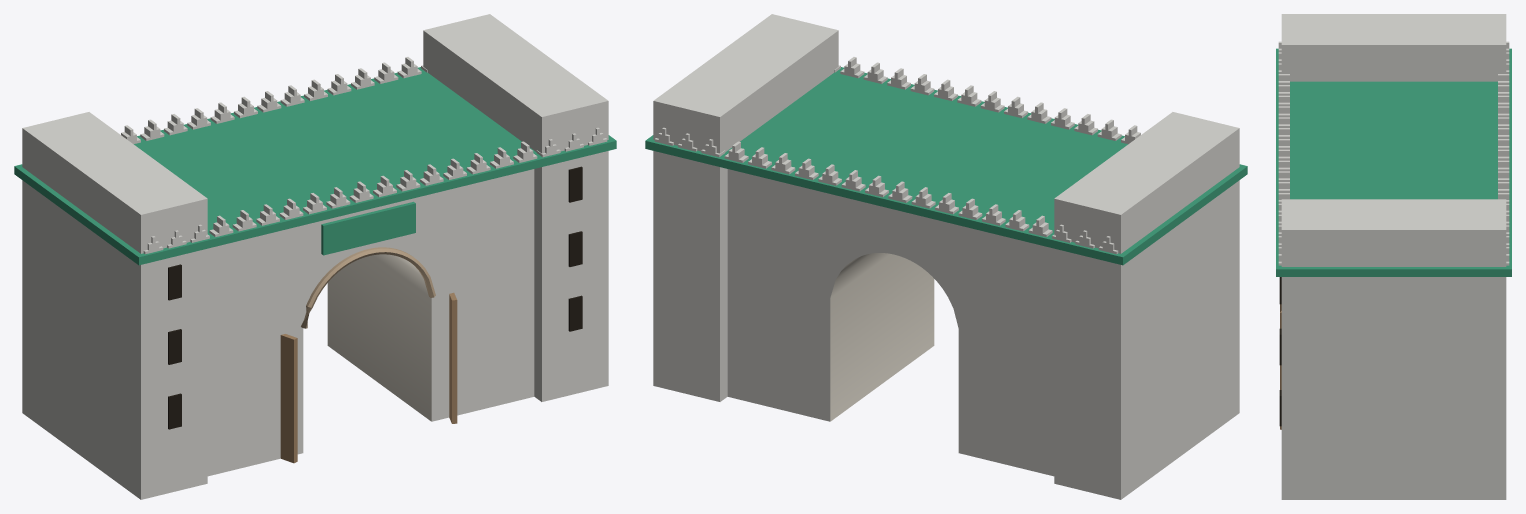
The model's file is SM_BabMakkah.fbx.
3 renders of one model, left to right at view 1: azimuth 30°, elevation 25°; view 2: azimuth 150°, elevation 25°; view 3: azimuth 270°, elevation 25°, orthographic. The views are drawn at different scales.
Parts seen in each view (by area): view 1: SM_BabMakkah; view 2: SM_BabMakkah; view 3: SM_BabMakkah.
Part boxes in pixels (box(x1,y1,x2,y2)): SM_BabMakkah: box(14, 14, 616, 499); SM_BabMakkah: box(645, 14, 1247, 499); SM_BabMakkah: box(1276, 14, 1511, 499).
Size of the model in its own units: 1860 by 1060 by 840.
